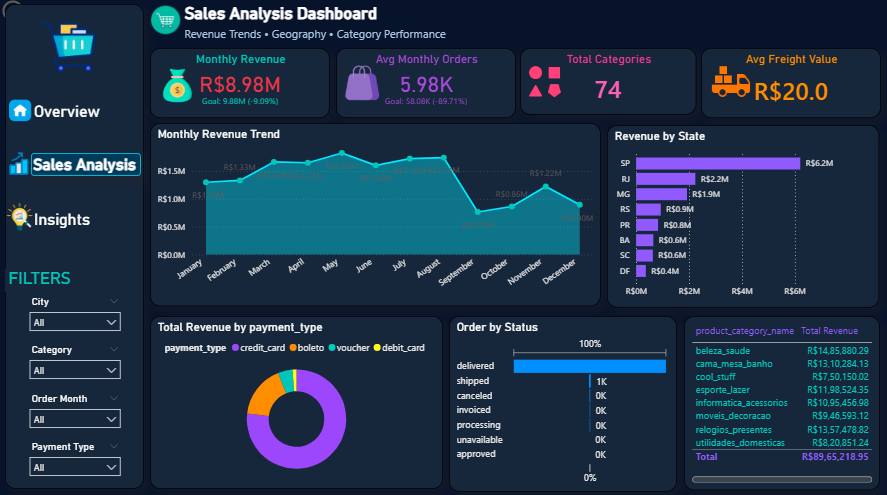

The page's visual inventory and layout, read from the dashboard file:
{"tool":"powerbi","page":{"name":"Sales Analysis","canvas":[1280,720],"ordinal":1},"visuals":[{"type":"actionButton","box":[0,0,100,40],"z":0},{"type":"shape","title":"E-Commerce Revenue & Customer Intelligence Dashboard","box":[8.6,10.1,200.2,698.4],"z":1000},{"type":"textbox","title":"Sales Analysis Dashboard","box":[262.1,10.1,793.4,138.2],"z":2000},{"type":"kpi","title":"Monthly Revenue","fields":{"Indicator":["ecommerce_final.Total Revenue"],"Goal":["ecommerce_final.Revenue Target"],"TrendLine":["ecommerce_final.order_purchase_timestamp.Variation.Date Hierarchy.Year"]},"box":[217.7,73.5,259.5,100.9],"z":3000},{"type":"kpi","title":"Avg Monthly Orders ","fields":{"TrendLine":["ecommerce_final.order_purchase_timestamp.Variation.Date Hierarchy.Year"],"Goal":["ecommerce_final.Target Orders"],"Indicator":["ecommerce_final.Avg Monthly Orders"]},"box":[485,73.5,259.5,100.9],"z":4000},{"type":"cardVisual","title":"Total Categories","fields":{"Data":["ecommerce_final.Total Categories"]},"box":[749.7,74.1,254.3,95.9],"z":5000},{"type":"cardVisual","title":"Avg Freight Value ","fields":{"Data":["ecommerce_final.Avg Freight Cost"]},"box":[1010.5,73.5,259.5,100.9],"z":6000},{"type":"clusteredBarChart","title":"Revenue by State","fields":{"Category":["ecommerce_final.customer_state"],"Y":["ecommerce_final.Total Revenue"]},"box":[876.1,184.5,392.3,263],"z":7000},{"type":"donutChart","fields":{"Y":["ecommerce_intelligence.Total Revenue"],"Category":["ecommerce_intelligence.payment_type"]},"box":[217.4,459.4,421.9,249.1],"z":8000},{"type":"image","box":[217.7,10.1,44.7,46.1],"z":9000},{"type":"lineChart","title":"Monthly Revenue Trend","fields":{"Y":["ecommerce_final.Total Revenue"],"Category":["ecommerce_final.order_purchase_timestamp.Variation.Date Hierarchy.Month"]},"box":[217.4,181.4,649.4,263.5],"z":10000},{"type":"slicer","title":"Order Month","fields":{"Values":["ecommerce_final.order_purchase_timestamp.Variation.Date Hierarchy.Month"]},"box":[33.1,564.5,152.6,69.1],"z":11000},{"type":"slicer","fields":{"Values":["ecommerce_final.product_category_name"]},"box":[33.1,493.9,152.6,70.6],"z":12000},{"type":"slicer","fields":{"Values":["ecommerce_final.payment_type"]},"box":[33.1,633.6,152.6,70.6],"z":13000},{"type":"slicer","fields":{"Values":["ecommerce_final.customer_city"]},"box":[33.1,424.8,152.6,69.1],"z":14000},{"type":"actionButton","title":"Overview","box":[50.4,151.2,148.3,38],"z":15000},{"type":"actionButton","title":"Sales Analysis","box":[46.5,225.2,158.4,33.4],"z":16000},{"type":"textbox","title":"FILTERS","box":[8.6,391.7,105.1,33.1],"z":17000},{"type":"actionButton","title":"Insights","box":[50.4,306.7,151.2,30.2],"z":18000},{"type":"image","box":[53.3,33.1,92.2,79.2],"z":19000},{"type":"image","box":[14.4,136.8,31.7,53.3],"z":20000},{"type":"image","box":[10.1,207.4,37.4,64.8],"z":21000},{"type":"image","box":[8.6,296.6,41.8,40.3],"z":22000},{"type":"image","box":[229,96.5,56.2,61.9],"z":23000},{"type":"image","box":[489.6,96.5,67.7,54.7],"z":24000},{"type":"funnel","title":"Order by Status","fields":{"Category":["ecommerce_final.order_status"],"Y":["ecommerce_final.Total Orders"]},"box":[648,459.1,328.4,252.8],"z":25000},{"type":"tableEx","title":"Top Category by Revenue","fields":{"Values":["ecommerce_final.product_category_name","ecommerce_final.Total Revenue"]},"box":[986.5,459.1,281.9,251.4],"z":26000},{"type":"image","box":[1019.9,95.9,68.3,55.2],"z":27000},{"type":"image","box":[749.7,95.9,72.6,52.3],"z":28000}]}

Visuals, with their boxes on the page's 1280x720 design canvas (x1, y1, x2, y2). These are canvas units, not pixel positions in the 887x495 screenshot, which may show the page scaled, cropped or inside an application window:
actionButton: [0, 0, 100, 40]
"E-Commerce Revenue & Customer Intelligence Dashboard" shape: [9, 10, 209, 708]
"Sales Analysis Dashboard" textbox: [262, 10, 1056, 148]
"Monthly Revenue" kpi: [218, 74, 477, 174]
"Avg Monthly Orders " kpi: [485, 74, 744, 174]
"Total Categories" cardVisual: [750, 74, 1004, 170]
"Avg Freight Value " cardVisual: [1010, 74, 1270, 174]
"Revenue by State" clusteredBarChart: [876, 184, 1268, 448]
donutChart - ecommerce_intelligence.Total Revenue x ecommerce_intelligence.payment_type: [217, 459, 639, 708]
image: [218, 10, 262, 56]
"Monthly Revenue Trend" lineChart: [217, 181, 867, 445]
"Order Month" slicer: [33, 564, 186, 634]
slicer - ecommerce_final.product_category_name: [33, 494, 186, 564]
slicer - ecommerce_final.payment_type: [33, 634, 186, 704]
slicer - ecommerce_final.customer_city: [33, 425, 186, 494]
"Overview" actionButton: [50, 151, 199, 189]
"Sales Analysis" actionButton: [46, 225, 205, 259]
"FILTERS" textbox: [9, 392, 114, 425]
"Insights" actionButton: [50, 307, 202, 337]
image: [53, 33, 146, 112]
image: [14, 137, 46, 190]
image: [10, 207, 48, 272]
image: [9, 297, 50, 337]
image: [229, 96, 285, 158]
image: [490, 96, 557, 151]
"Order by Status" funnel: [648, 459, 976, 712]
"Top Category by Revenue" tableEx: [986, 459, 1268, 710]
image: [1020, 96, 1088, 151]
image: [750, 96, 822, 148]
